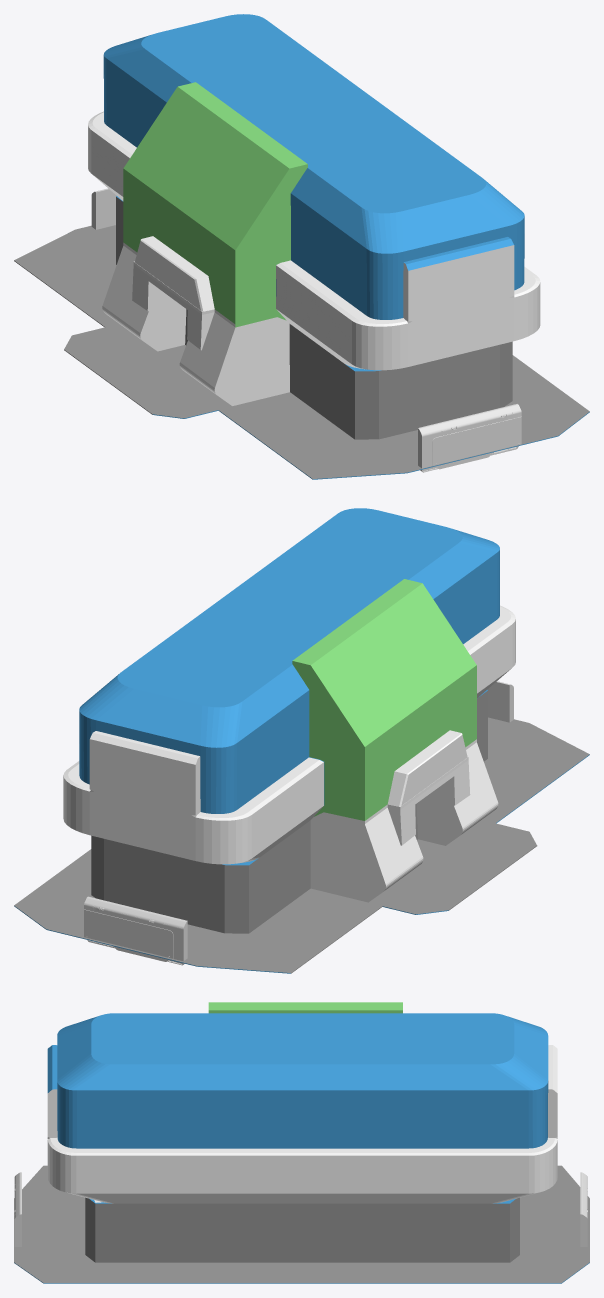
File: Healing_Hub.fbx
3 renders of one model, top to bottom at view 1: azimuth 30°, elevation 25°; view 2: azimuth 150°, elevation 25°; view 3: azimuth 270°, elevation 25°, orthographic. The views are drawn at different scales.
Visible parts, largest first — view 1: Slice.001; view 2: Slice.001; view 3: Slice.001.
Boxes of the visible parts, x1,y1,x2,y2 form: Slice.001: (14, 14, 589, 479); Slice.001: (14, 508, 589, 973); Slice.001: (14, 1002, 589, 1283).
Size of the model in its own units: 966 by 637 by 1679.
